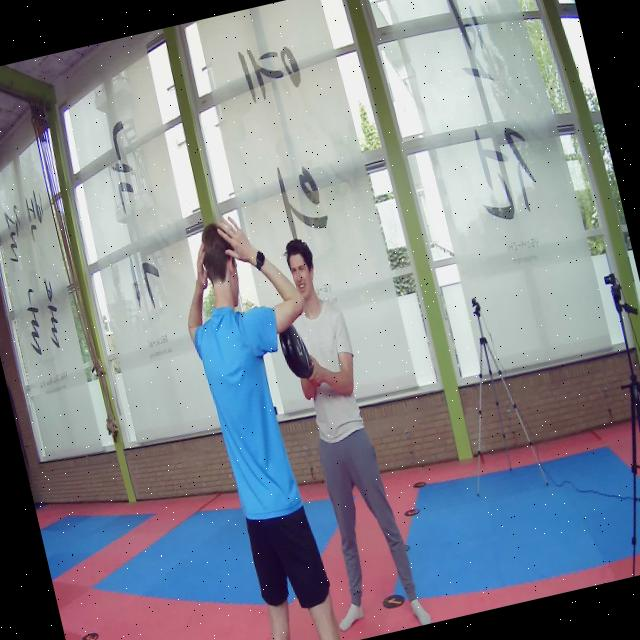paddle: (279, 322, 314, 379)
